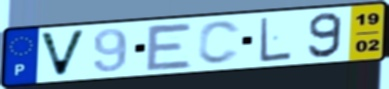9: (307, 11, 344, 60), (92, 27, 130, 74)
C: (195, 19, 244, 67)
E: (144, 21, 195, 72)
L: (259, 15, 294, 64)
V: (36, 28, 89, 79)
